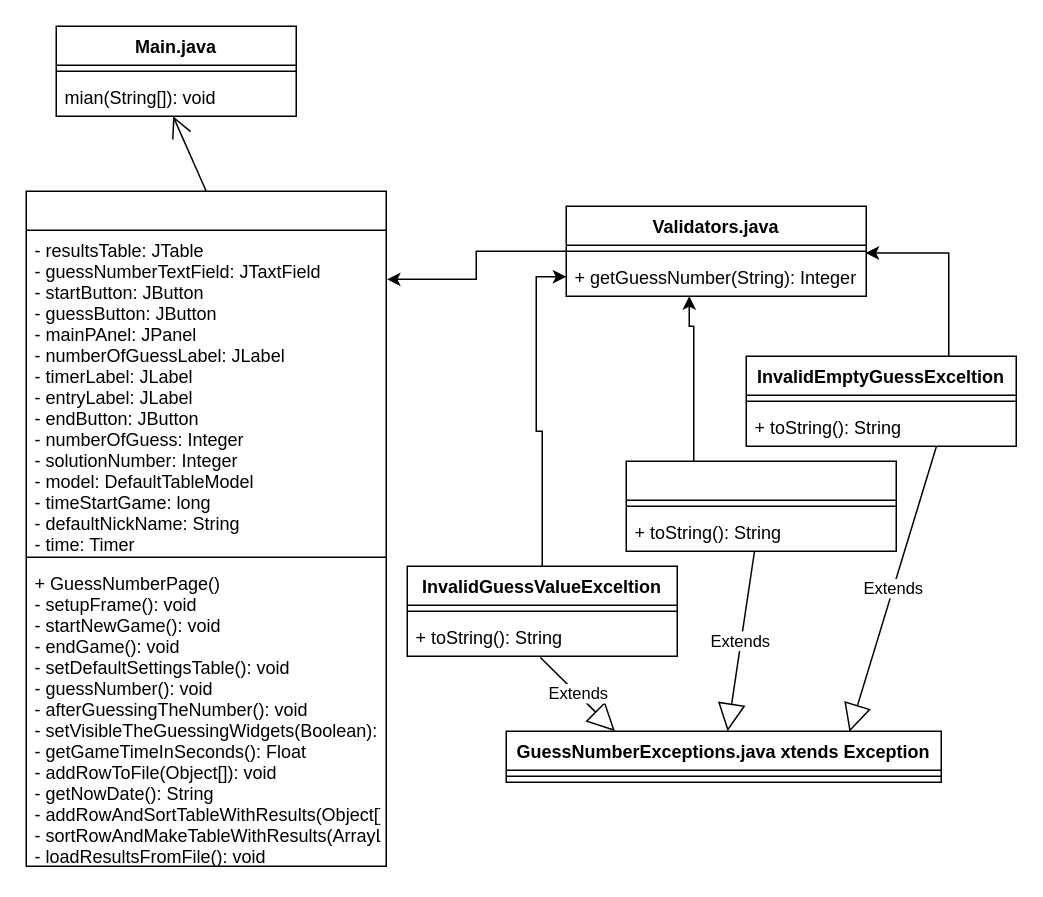
The diagram is 1043 pixels wide and 897 high, and some of its shapes have lost their labels. The box of each missing label's shape, as (x1, y1, x2, y2) in pixels:
GuessNumberPage.java extends JFrame: (25, 190, 386, 866)
InvalidGuessFormatExceltion: (625, 460, 896, 551)
